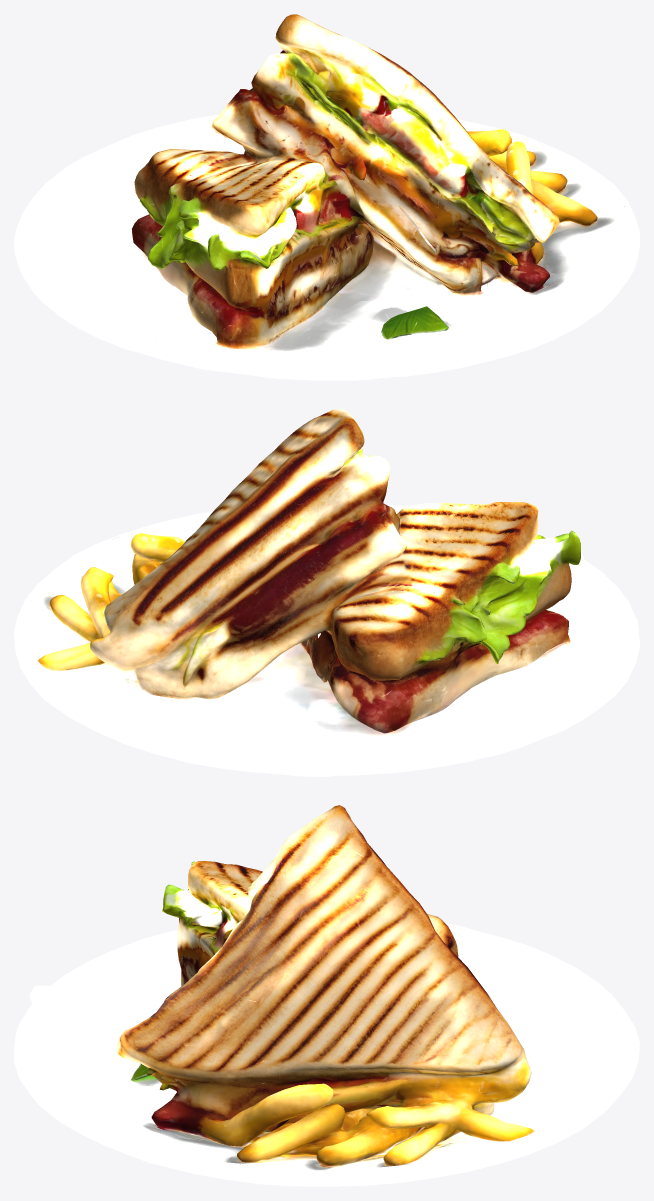
File: sandwich.glb
3 renders of one model, top to bottom at view 1: azimuth 30°, elevation 25°; view 2: azimuth 150°, elevation 25°; view 3: azimuth 270°, elevation 25°, orthographic.
Size of the model in its own units: 1.91 by 0.955 by 1.9.
Materials: 1 (1 with a texture image).
